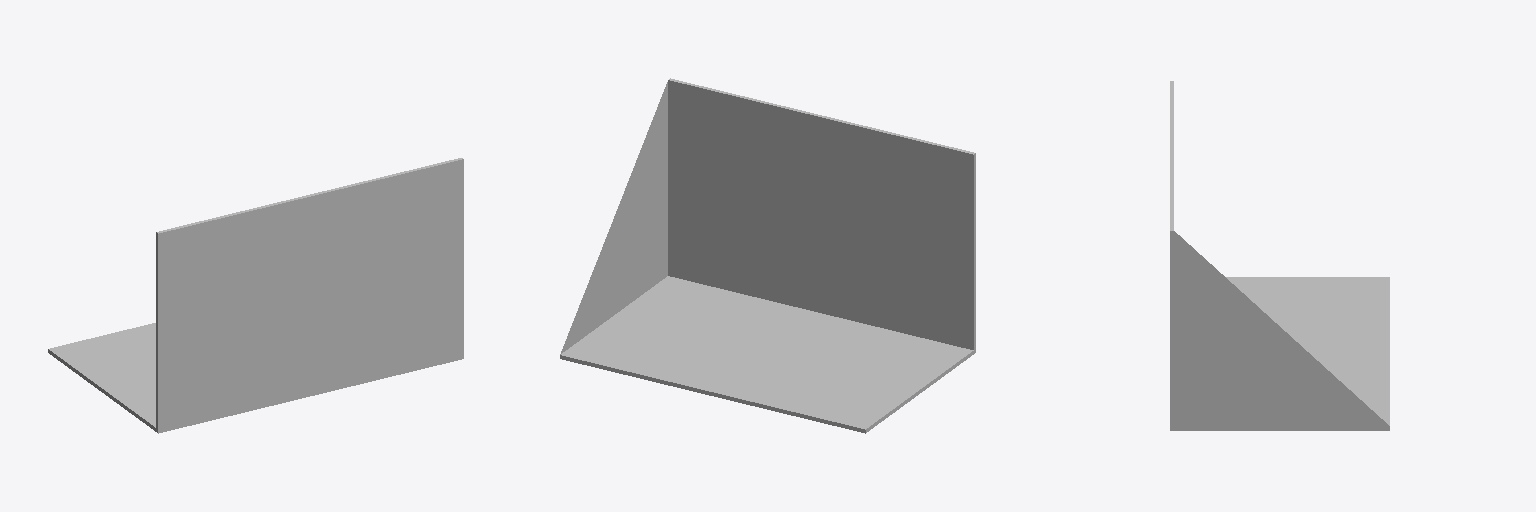
File: mypc.obj
3 views of the same model, side by side, from view 1: azimuth 30°, elevation 25°; view 2: azimuth 150°, elevation 25°; view 3: azimuth 270°, elevation 25° (orthographic).
Parts seen in each view (by area): view 1: Extrudieren.1; view 2: Extrudieren.1; view 3: Extrudieren.1.
Boxes of the visible parts, x1=… form: Extrudieren.1: x1=48, y1=158, x2=463, y2=433; Extrudieren.1: x1=560, y1=78, x2=975, y2=433; Extrudieren.1: x1=1170, y1=81, x2=1389, y2=430.
Size of the model in its own units: 80 by 50 by 50.